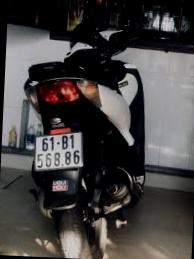Bien-so: (31, 130, 83, 175)
